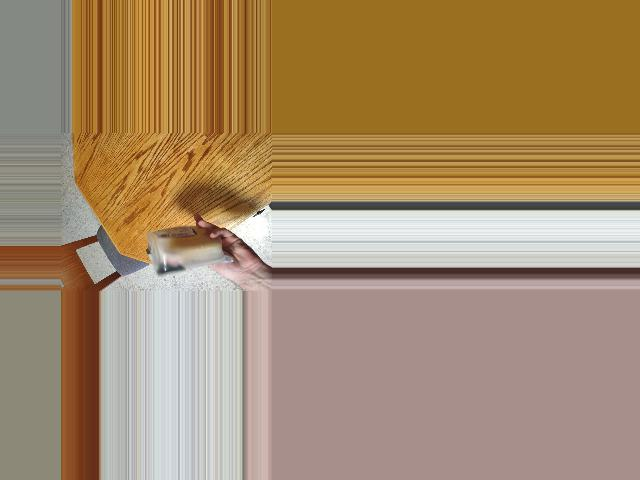cheese: (152, 227, 218, 270)
